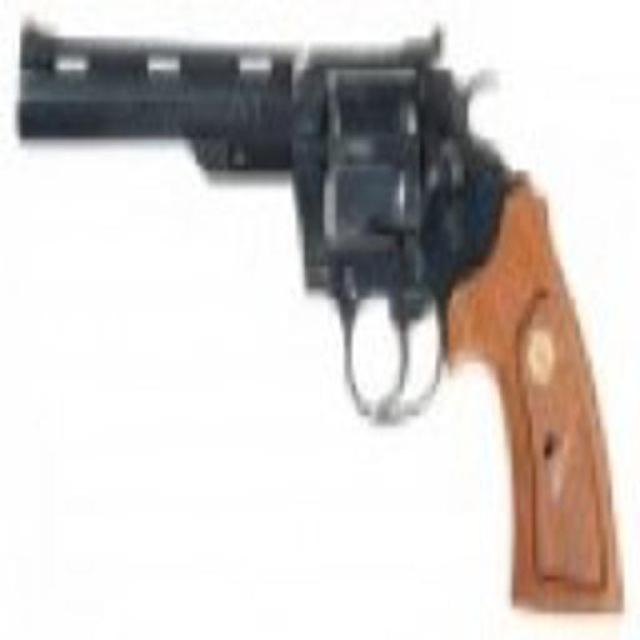pistol: (15, 21, 624, 623)
